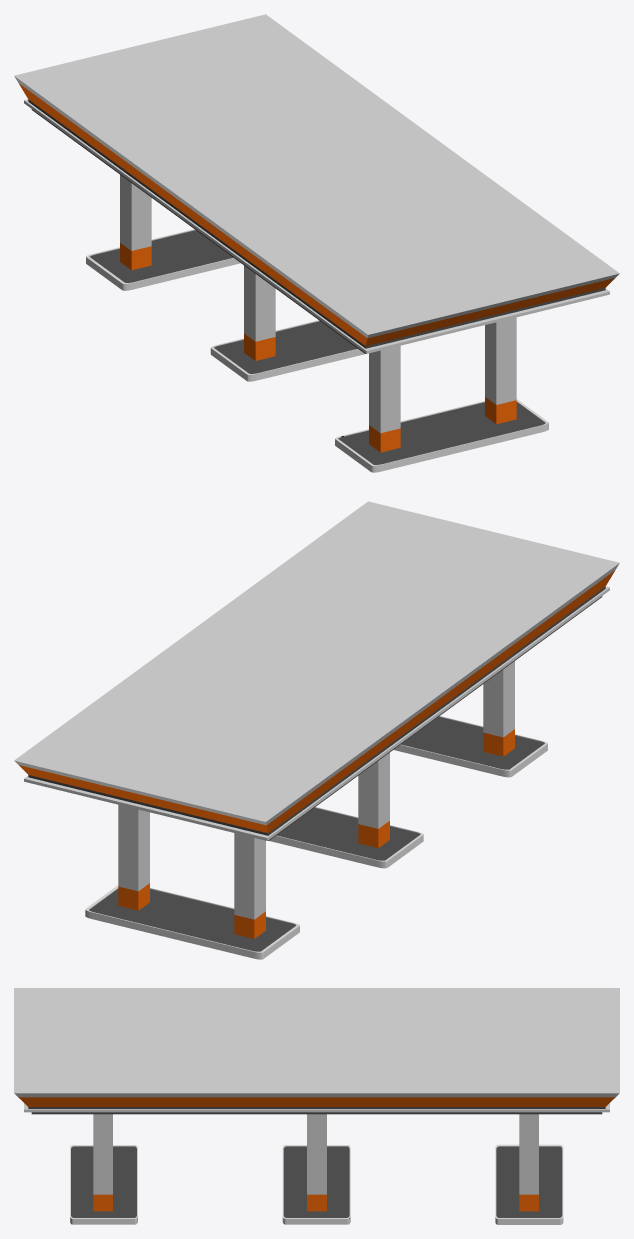
Rendered from roof.fbx.
3 views of the same model, one above another, from view 1: azimuth 30°, elevation 25°; view 2: azimuth 150°, elevation 25°; view 3: azimuth 270°, elevation 25° (orthographic). The views are drawn at different scales.
Visible parts, largest first — view 1: заправка; view 2: заправка; view 3: заправка.
Boxes of the visible parts, x1,y1,x2,y2 form: заправка: (14, 14, 619, 472); заправка: (14, 501, 619, 959); заправка: (14, 988, 619, 1224).
Size of the model in its own units: 9161 by 5970 by 22315.
